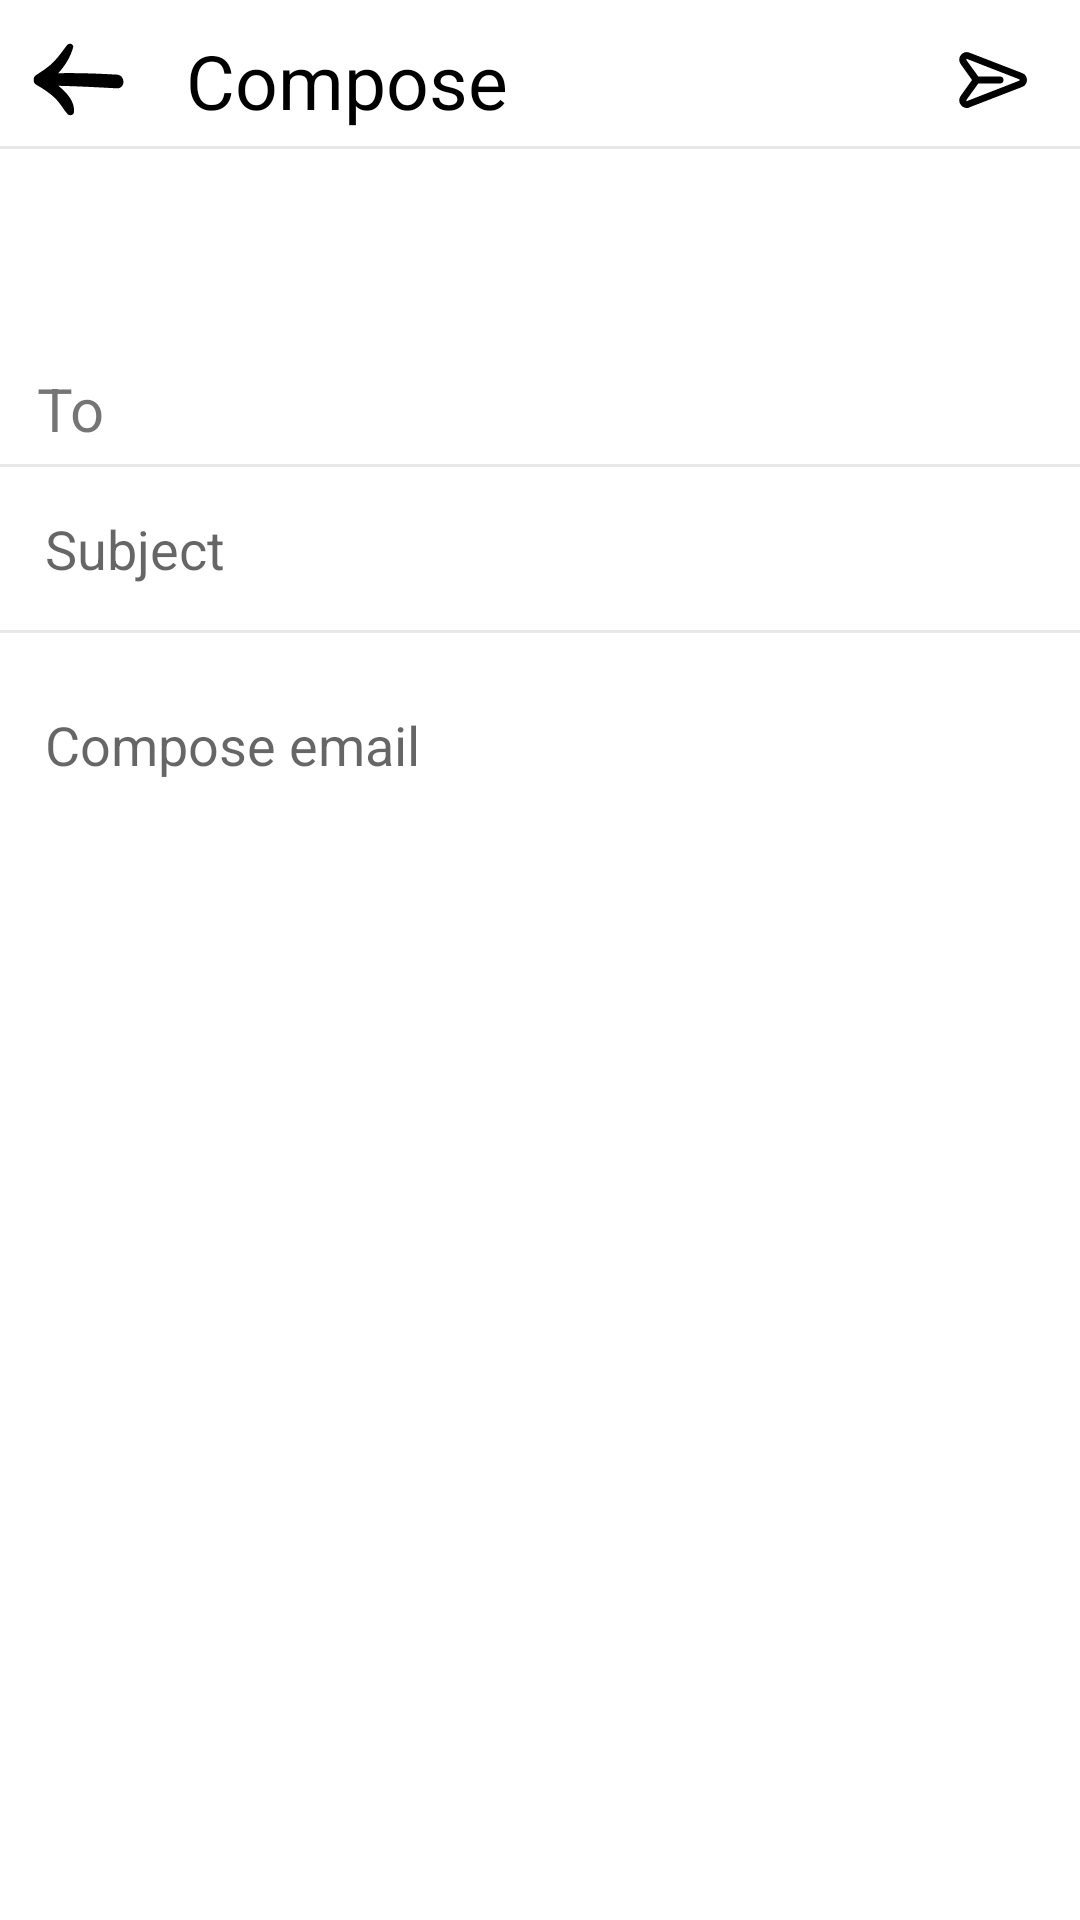

Named icons in this screenshot (1080 x 1920) and their bounding boxes, [x1=x1, y1=y1, x2=x2, y2=y2]:
back: [x1=33, y1=43, x2=124, y2=116]
send email: [x1=959, y1=52, x2=1027, y2=108]
